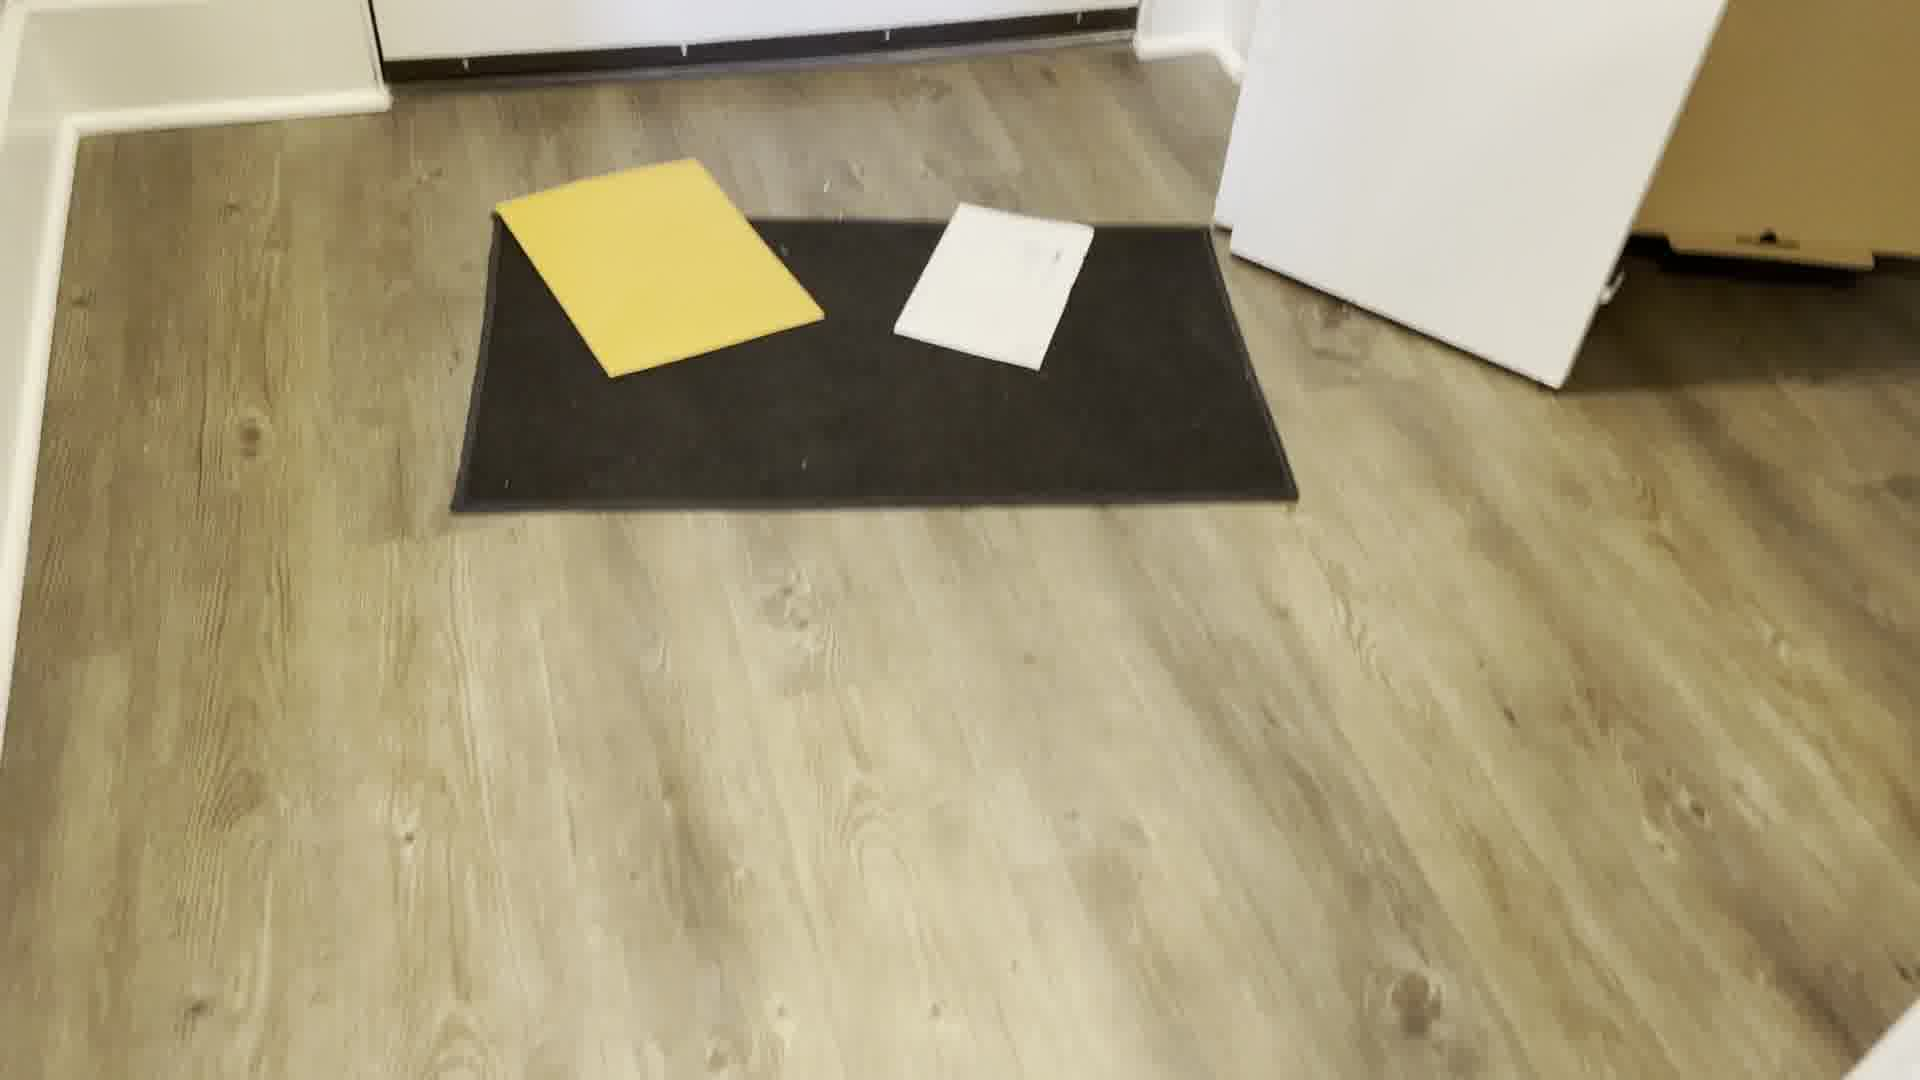envelope: (487, 142, 839, 378), (887, 191, 1106, 380)
